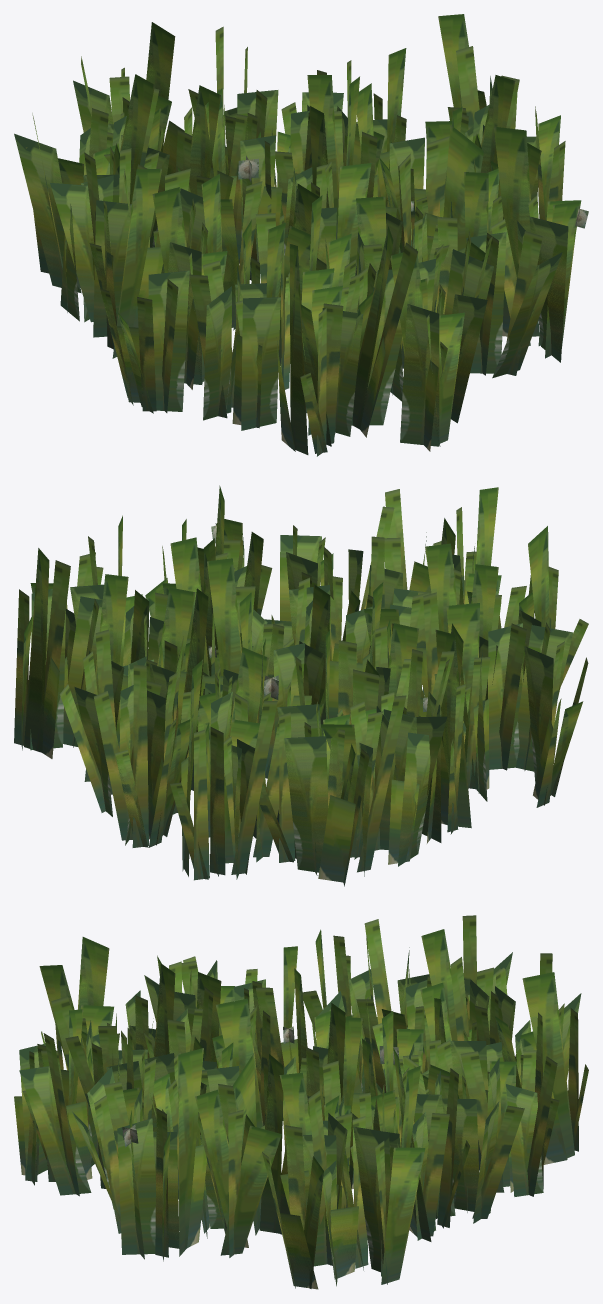
Rendered from Yland1_Zb_01_Yland1.FBX.
3 renders of one model, top to bottom at view 1: azimuth 30°, elevation 25°; view 2: azimuth 150°, elevation 25°; view 3: azimuth 270°, elevation 25°, orthographic. The views are drawn at different scales.
Parts seen in each view (by area): view 1: Yland1_Zb_01_Yland1; view 2: Yland1_Zb_01_Yland1; view 3: Yland1_Zb_01_Yland1.
Boxes of the visible parts, x1=… form: Yland1_Zb_01_Yland1: x1=14, y1=14, x2=588, y2=456; Yland1_Zb_01_Yland1: x1=14, y1=485, x2=588, y2=886; Yland1_Zb_01_Yland1: x1=14, y1=915, x2=588, y2=1289.
Bounding box in the file's own units: 5.82 × 2.57 × 6.24.
